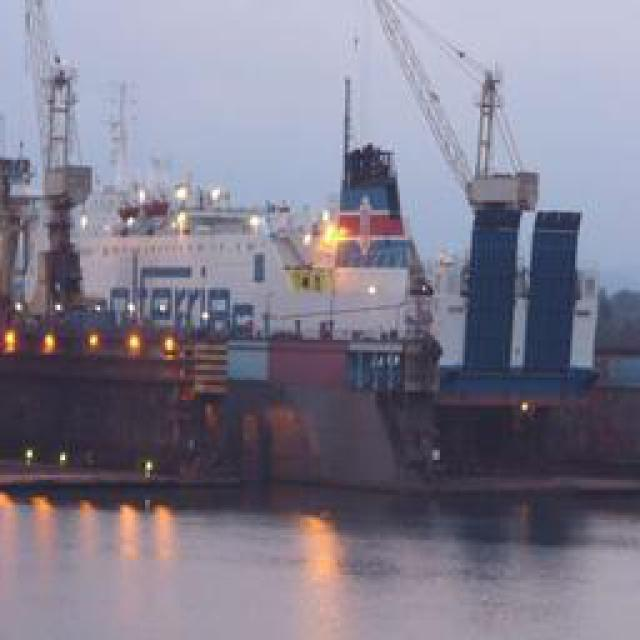Ship: (22, 6, 490, 489)
